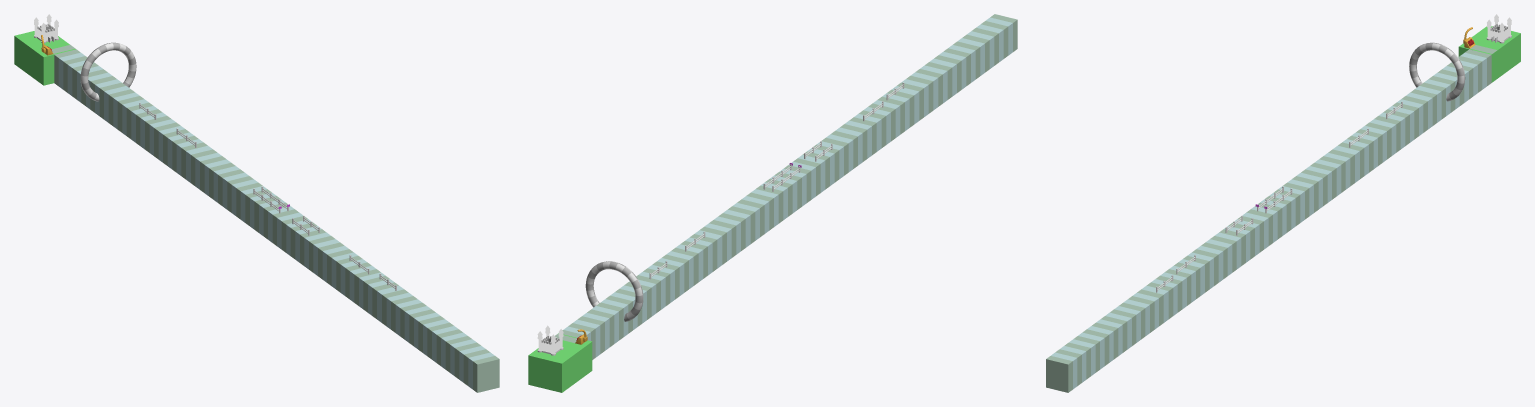
Rendered from GameArea.fbx.
3 renders of one model, left to right at view 1: azimuth 30°, elevation 25°; view 2: azimuth 150°, elevation 25°; view 3: azimuth 330°, elevation 25°, orthographic. The views are drawn at different scales.
Visible parts, largest first — view 1: 2xGameAreaBoşluklu, 2xGameArea, 2xGameAreaBoşluklu2, Finish, FinishCircle.001, Castle2; view 2: 2xGameAreaBoşluklu, 2xGameArea, 2xGameAreaBoşluklu2, Finish, FinishCircle.001, Castle2; view 3: 2xGameAreaBoşluklu, 2xGameArea, 2xGameAreaBoşluklu2, Finish, FinishCircle.001, Castle2.
Boxes of the visible parts, box(x1,y1,x2,y2) form: 2xGameAreaBoşluklu: box(54, 49, 499, 392); 2xGameArea: box(90, 82, 499, 392); 2xGameAreaBoşluklu2: box(88, 76, 498, 391); Finish: box(14, 31, 75, 85); FinishCircle.001: box(80, 42, 136, 101); Castle2: box(34, 14, 58, 43); 2xGameAreaBoşluklu: box(562, 14, 1017, 359); 2xGameArea: box(619, 26, 1014, 339); 2xGameAreaBoşluklu2: box(599, 14, 1016, 338); Finish: box(528, 333, 592, 392); FinishCircle.001: box(585, 261, 643, 321); Castle2: box(537, 325, 563, 355); 2xGameAreaBoşluklu: box(1046, 49, 1491, 392); 2xGameArea: box(1046, 82, 1454, 392); 2xGameAreaBoşluklu2: box(1047, 73, 1459, 392); Finish: box(1458, 26, 1520, 82); FinishCircle.001: box(1409, 42, 1465, 101); Castle2: box(1486, 14, 1511, 43).
Size of the model in its own units: 7640 by 9074 by 108799.
